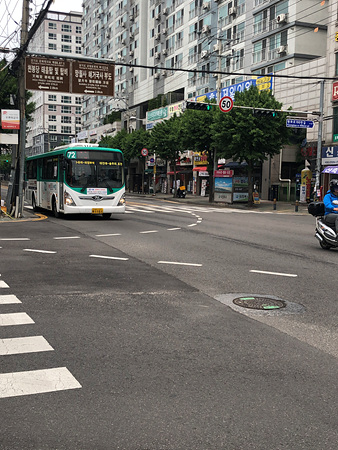bnum: (66, 149, 77, 159)
